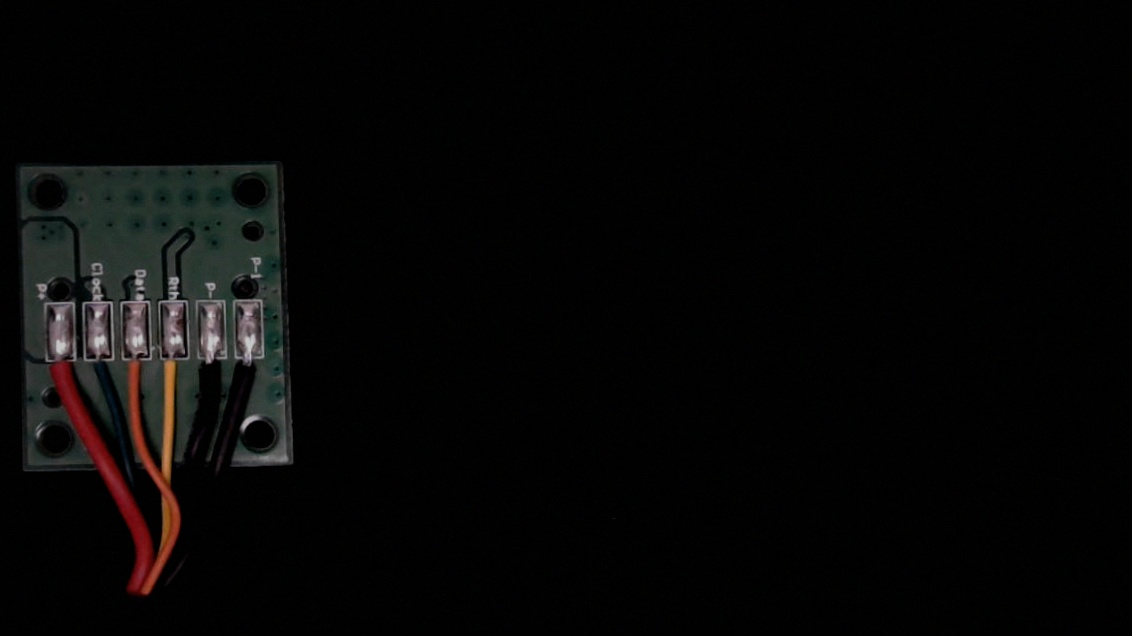Black: (195, 346, 226, 410)
Black1: (234, 346, 266, 408)
Green: (83, 346, 116, 410)
Orange: (122, 346, 154, 412)
Red: (44, 349, 78, 413)
Yellow: (156, 347, 190, 415)
